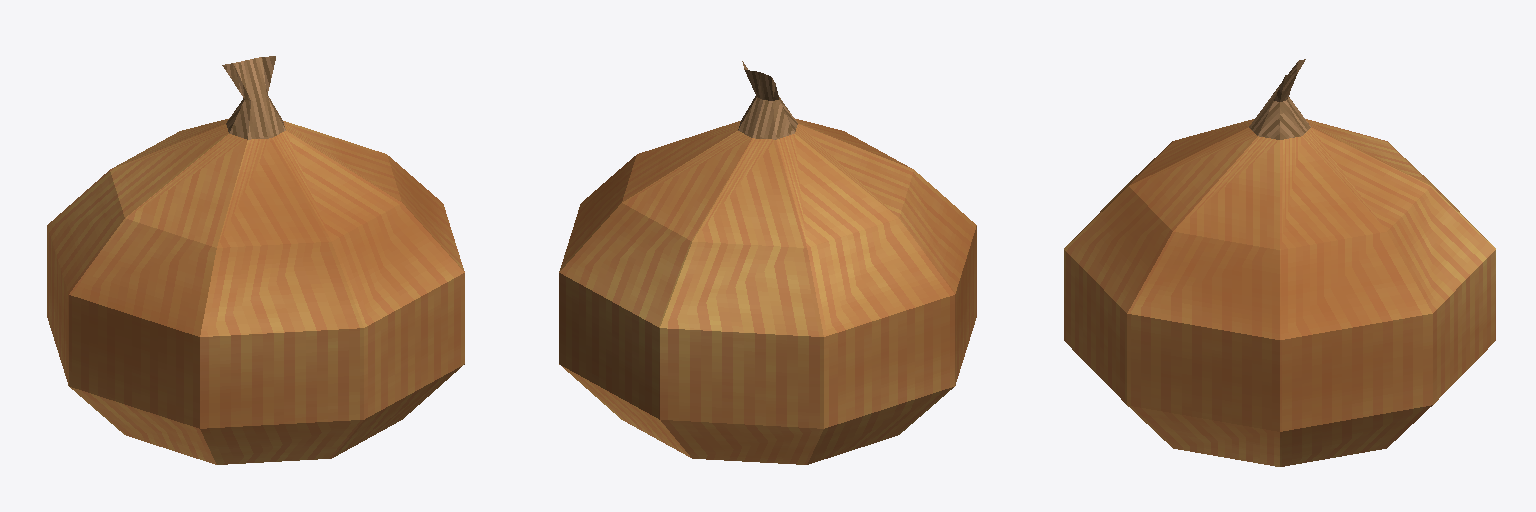
The picture shows the model from 3 angles: view 1: azimuth 30°, elevation 25°; view 2: azimuth 150°, elevation 25°; view 3: azimuth 270°, elevation 25°; orthographic projection.
Visible parts, largest first — view 1: Onion_Tube; view 2: Onion_Tube; view 3: Onion_Tube.
Part boxes in pixels (x1,y1,x2,y2): Onion_Tube: (47,56,464,464); Onion_Tube: (559,61,976,464); Onion_Tube: (1064,59,1495,466).
Size of the model in its own units: 1 by 0.9806 by 1.
Materials: 1 (1 with a texture image).